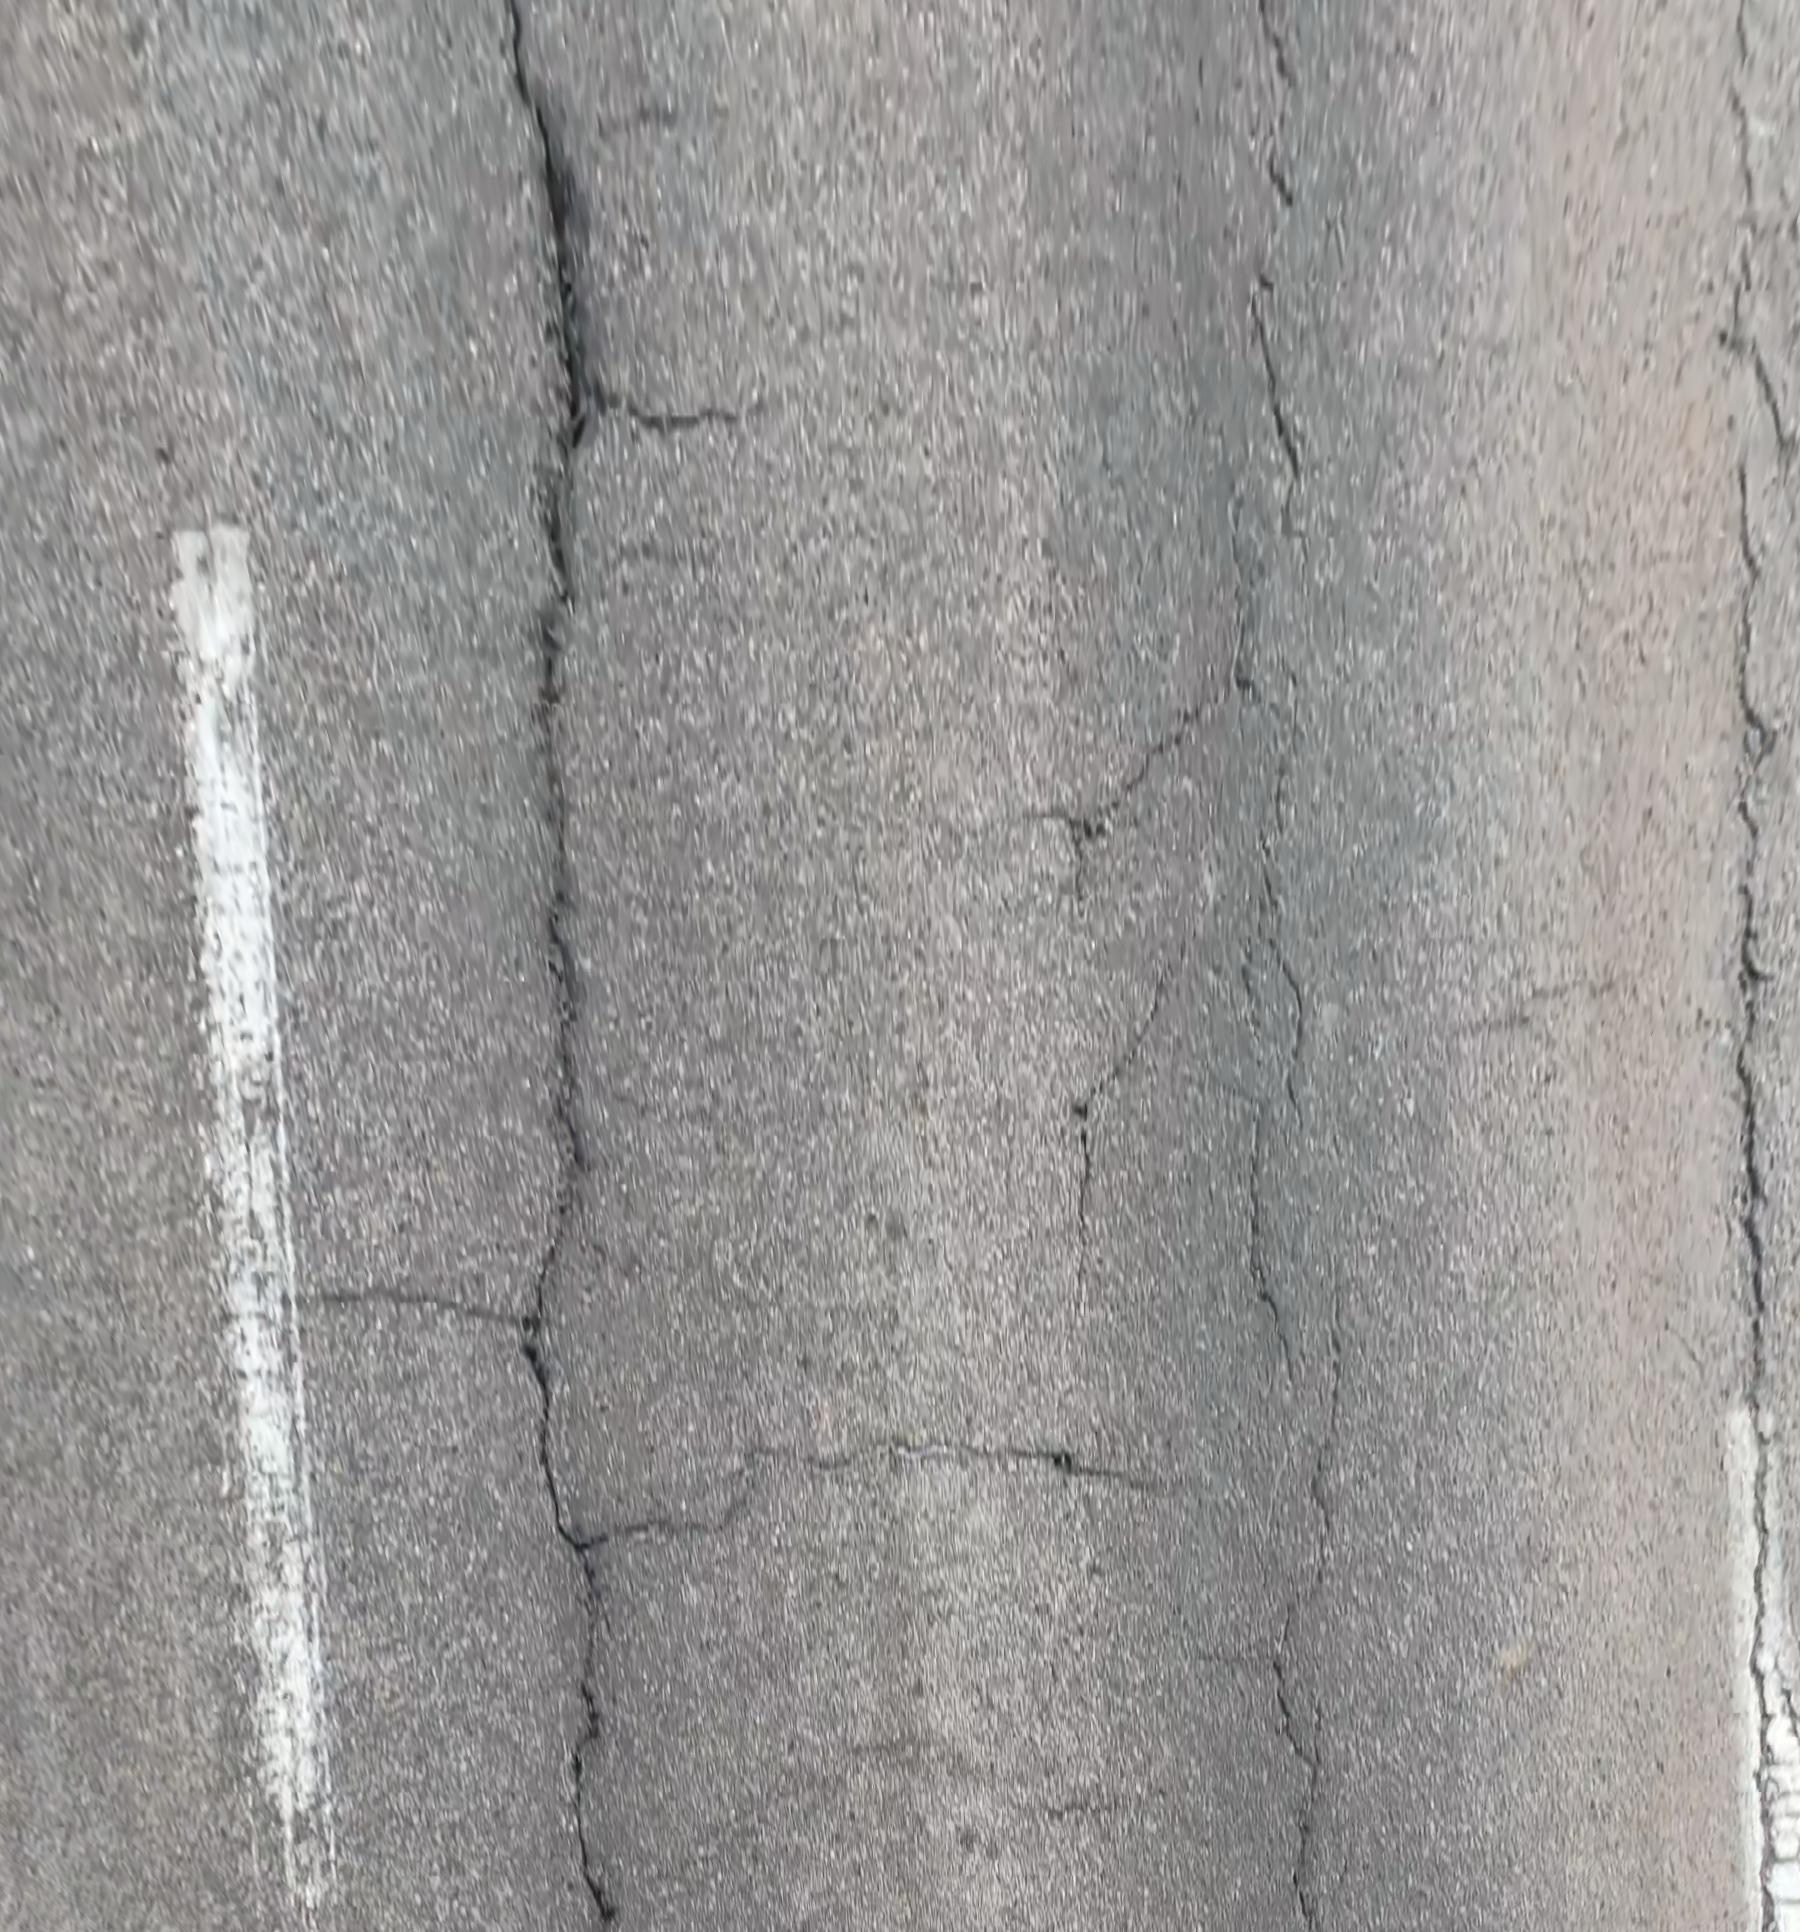pothole: (508, 0, 623, 448)
